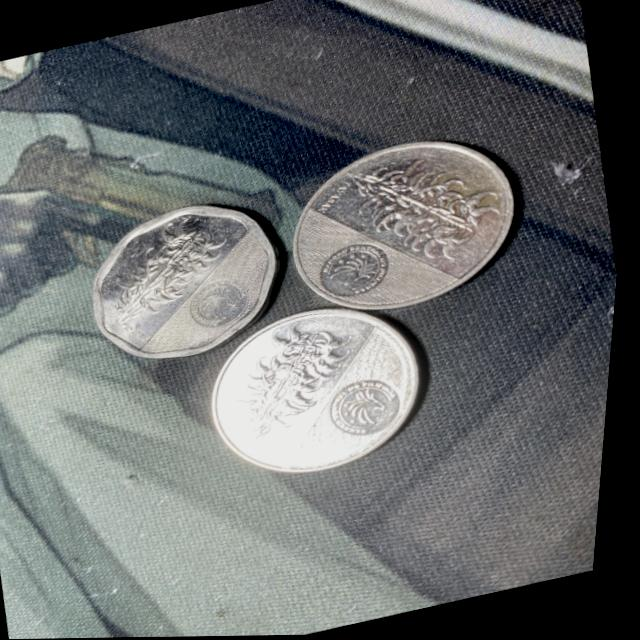5_New_Back: (328, 139, 504, 285), (90, 211, 241, 330), (226, 331, 359, 452)
